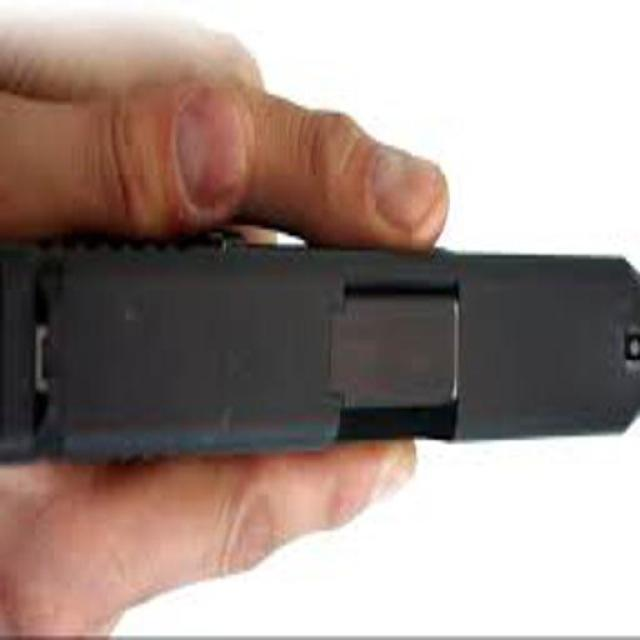pistol: (1, 225, 635, 454)
